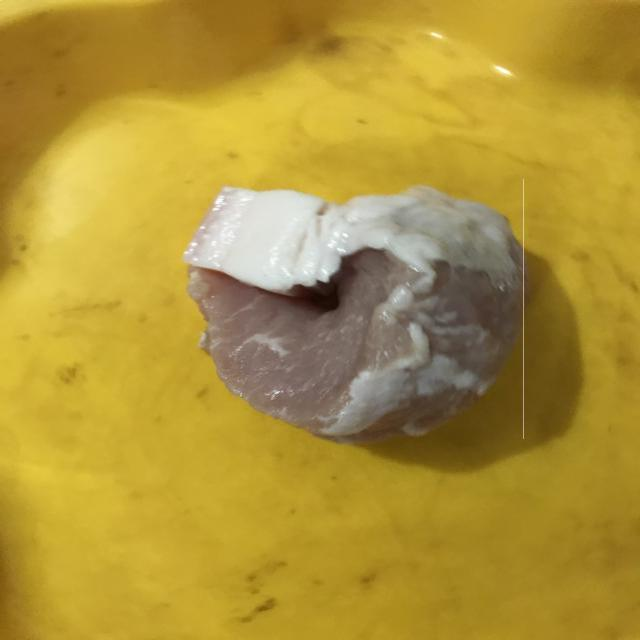chicken: (191, 179, 524, 439)
